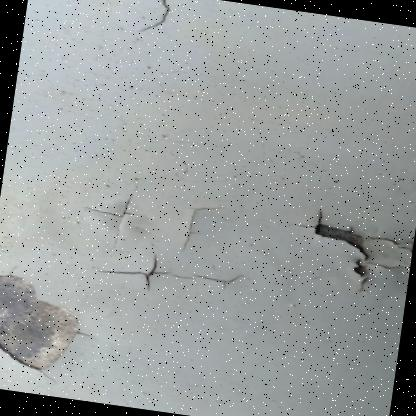Crack: (281, 190, 415, 315), (0, 260, 114, 391), (90, 245, 262, 308), (57, 182, 154, 254), (162, 188, 250, 263), (91, 0, 192, 60)
